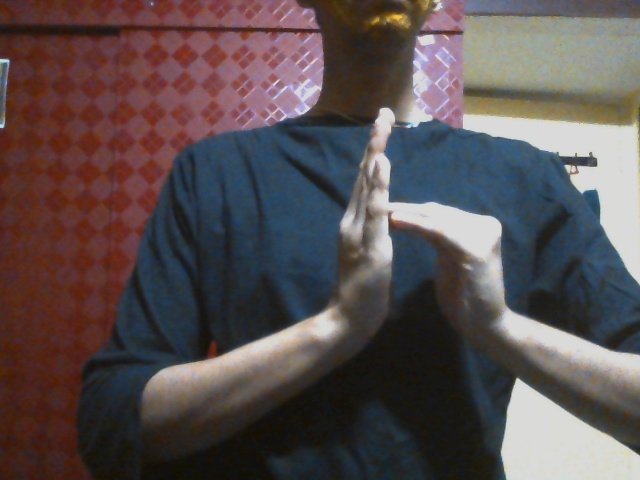Z: (319, 108, 532, 378)
